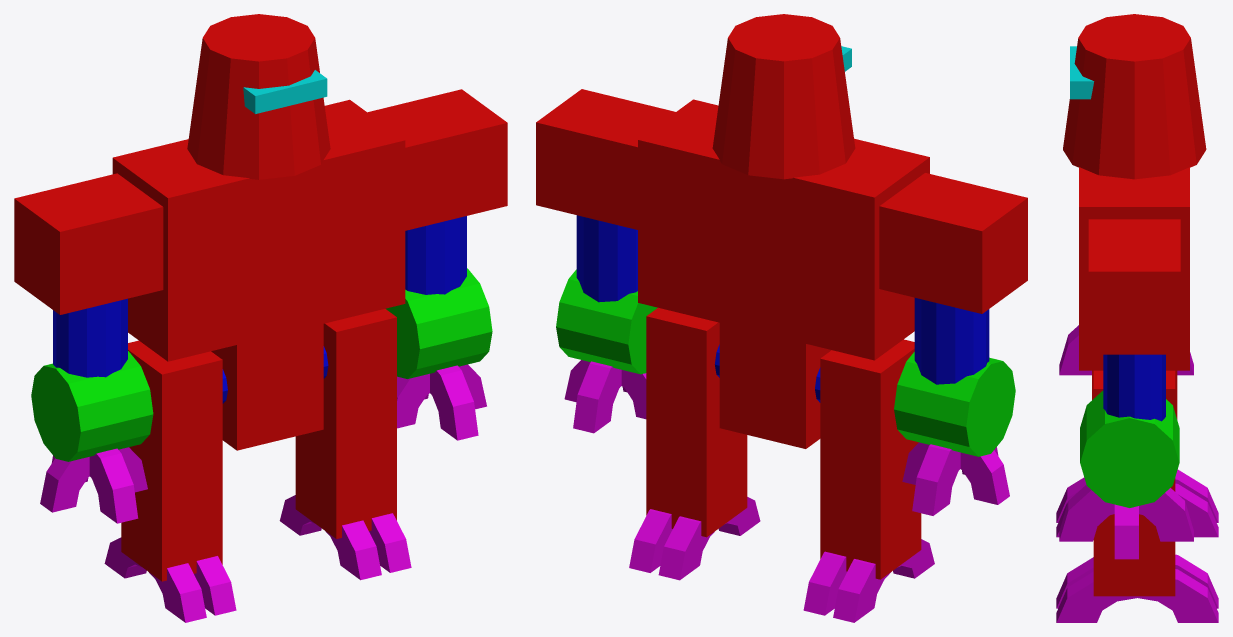
File: base_Combined.fbx
3 renders of one model, left to right at view 1: azimuth 30°, elevation 25°; view 2: azimuth 150°, elevation 25°; view 3: azimuth 270°, elevation 25°, orthographic.
Visible parts, largest first — view 1: base_Enemy; view 2: base_Enemy; view 3: base_Enemy.
Boxes of the visible parts, x1=… form: base_Enemy: x1=14, y1=14, x2=507, y2=622; base_Enemy: x1=536, y1=14, x2=1027, y2=622; base_Enemy: x1=1056, y1=14, x2=1218, y2=622.
Bounding box in the file's own units: 2.86 × 3.24 × 0.897.
